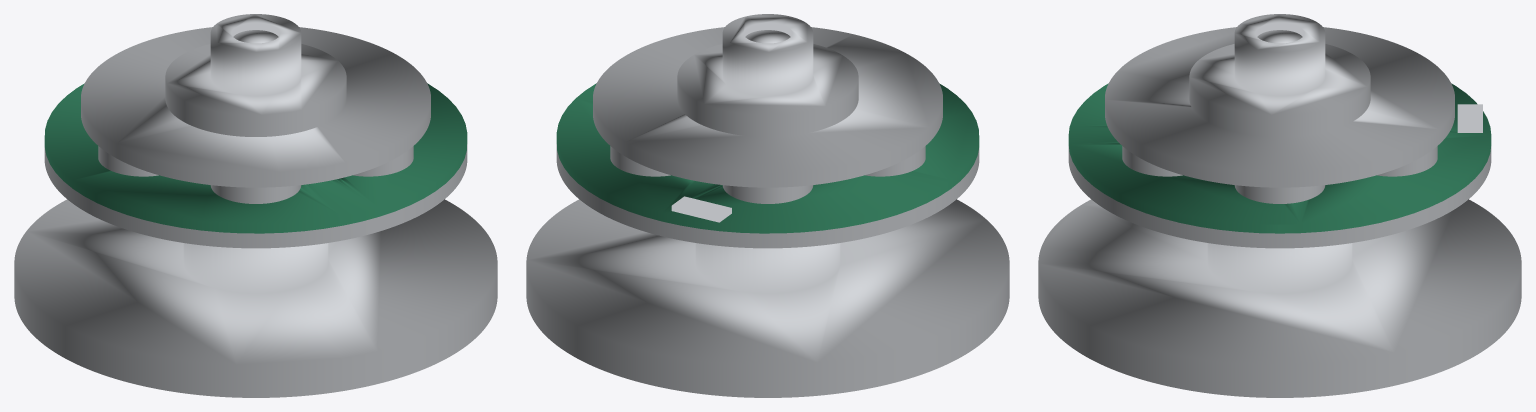
File: pcb-motor.glb
3 views of the same model, side by side, from view 1: azimuth 30°, elevation 25°; view 2: azimuth 150°, elevation 25°; view 3: azimuth 270°, elevation 25° (orthographic).
Parts seen in each view (by area): view 1: base, rotor-iron, stator-pcb, hub, stator-iron, magnets, shaft; view 2: base, rotor-iron, stator-pcb, hub, stator-iron, magnets, stator-pcb:J1, shaft; view 3: base, rotor-iron, stator-pcb, hub, stator-iron, magnets, stator-pcb:J1, shaft.
Boxes of the visible parts, x1,y1,x2,y2 form: base: (14, 199, 497, 397); rotor-iron: (81, 27, 430, 187); stator-pcb: (44, 83, 467, 233); hub: (165, 14, 346, 136); stator-iron: (44, 144, 467, 248); magnets: (98, 146, 413, 203); shaft: (233, 30, 278, 43); base: (526, 199, 1009, 397); rotor-iron: (593, 27, 942, 187); stator-pcb: (556, 83, 979, 233); hub: (677, 14, 858, 136); stator-iron: (556, 144, 979, 248); magnets: (610, 146, 925, 203); stator-pcb:J1: (671, 196, 731, 222); shaft: (745, 30, 790, 43); base: (1038, 199, 1521, 397); rotor-iron: (1105, 27, 1454, 187); stator-pcb: (1068, 83, 1491, 233); hub: (1189, 14, 1370, 136); stator-iron: (1068, 146, 1491, 248); magnets: (1122, 146, 1437, 203); stator-pcb:J1: (1457, 104, 1482, 132); shaft: (1257, 30, 1302, 43).
Size of the model in its own units: 80 by 48 by 80.
